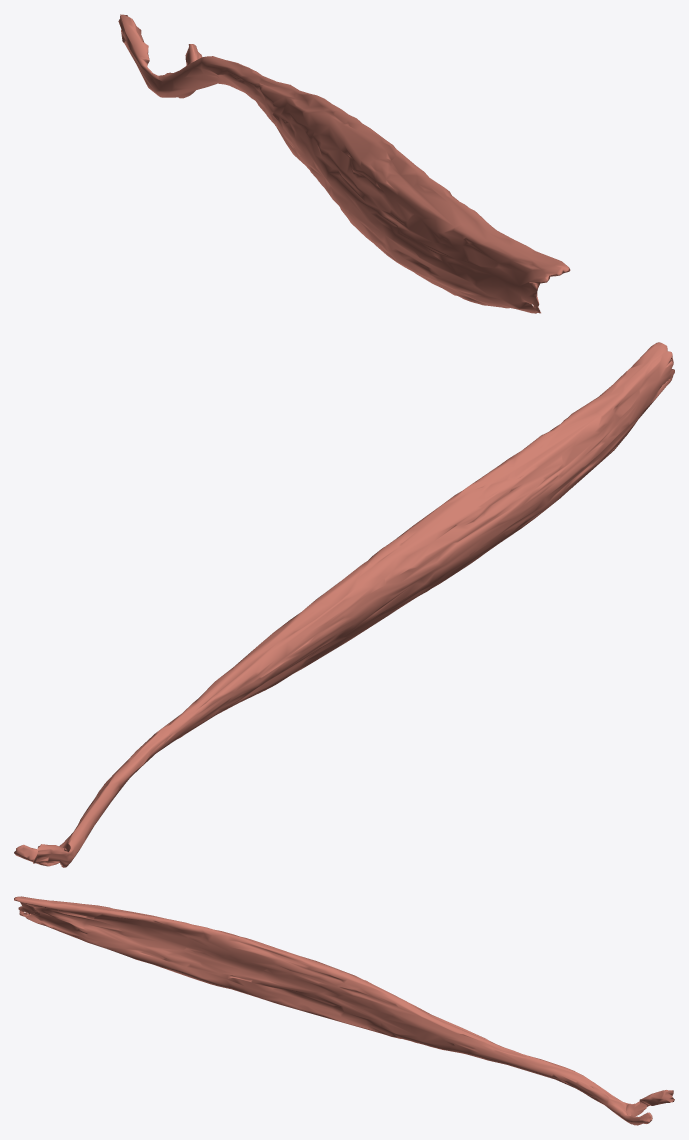
3 views of the same model, one above another, from view 1: azimuth 30°, elevation 25°; view 2: azimuth 150°, elevation 25°; view 3: azimuth 270°, elevation 25° (orthographic). The views are drawn at different scales.
Parts seen in each view (by area): view 1: 左侧尺侧腕屈肌肱头; view 2: 左侧尺侧腕屈肌肱头; view 3: 左侧尺侧腕屈肌肱头.
Part boxes in pixels (x1,y1,x2,y2): 左侧尺侧腕屈肌肱头: (118, 14, 570, 313); 左侧尺侧腕屈肌肱头: (14, 342, 674, 867); 左侧尺侧腕屈肌肱头: (14, 896, 674, 1125).
Bounding box in the file's own units: 0.1046 × 0.115 × 0.4062.
